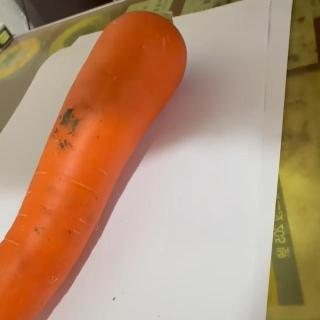carrot: (0, 9, 188, 320)
